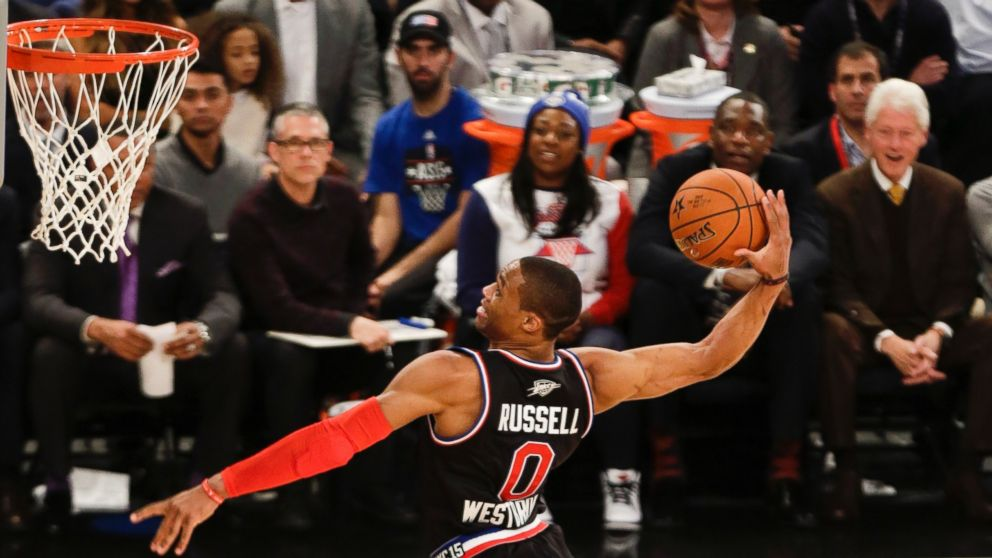basketball: (668, 165, 772, 269)
